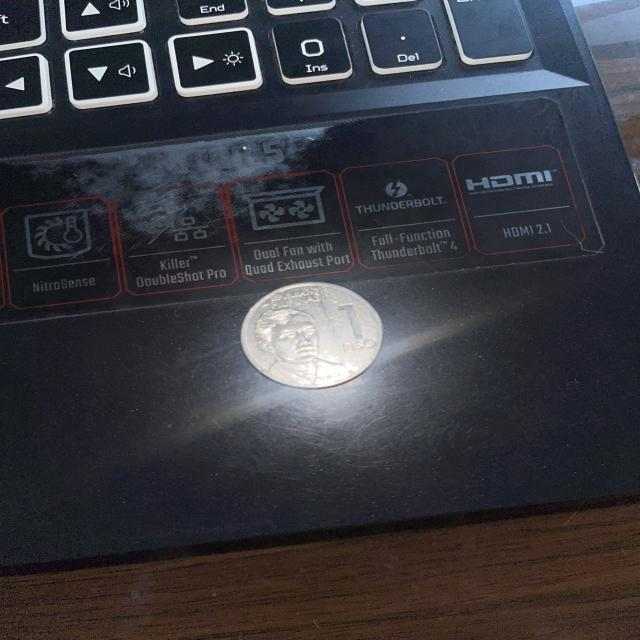1_New_Front: (259, 290, 402, 374)
